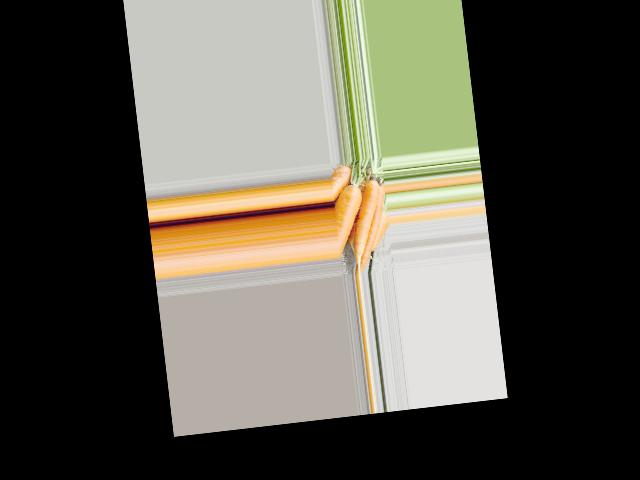carrot: (330, 178, 355, 208)
